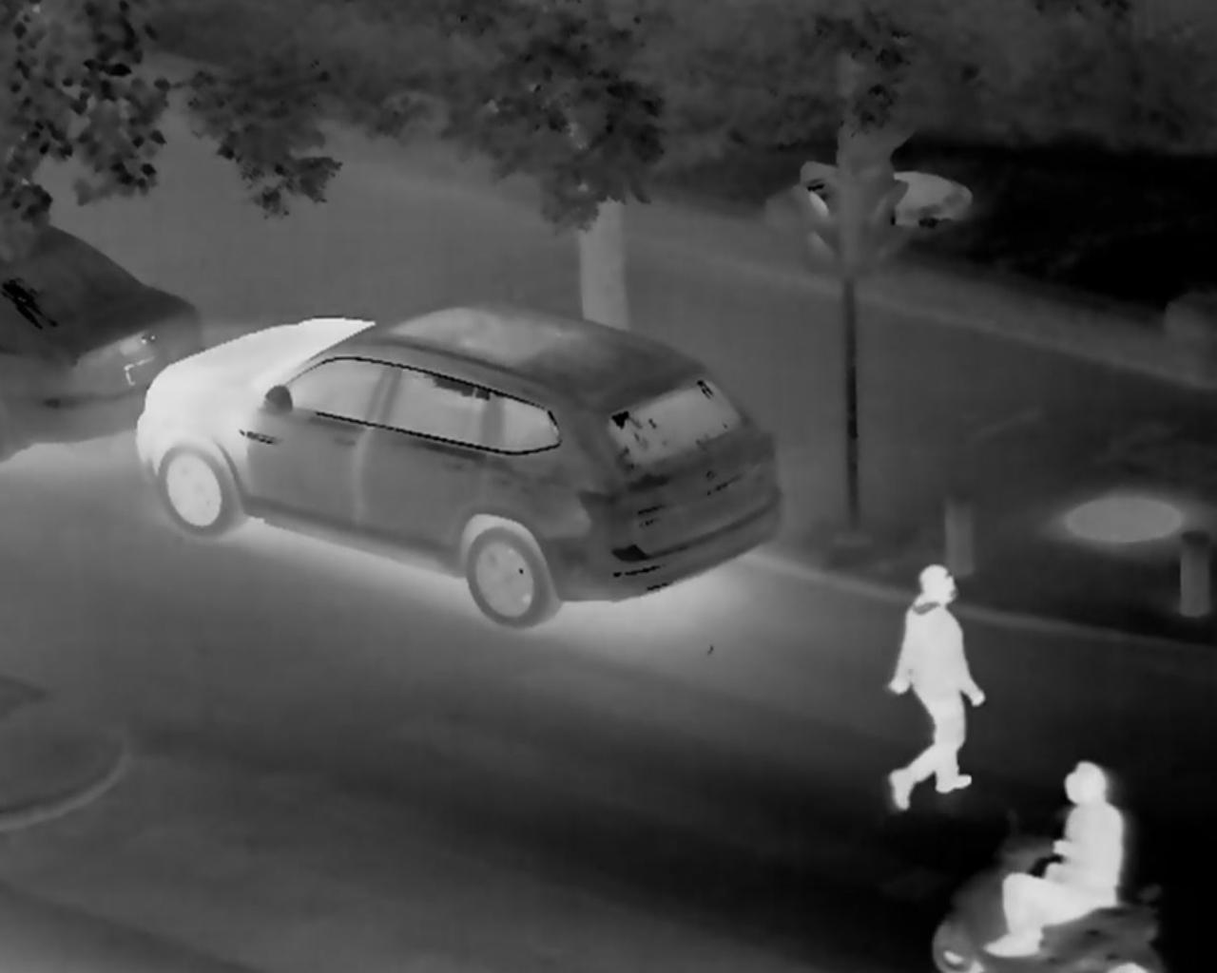person: (988, 749, 1149, 961), (882, 562, 981, 820)
